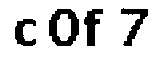0: (46, 6, 82, 52)
7: (116, 5, 150, 52)
c: (11, 18, 40, 49)
f: (83, 7, 105, 50)
